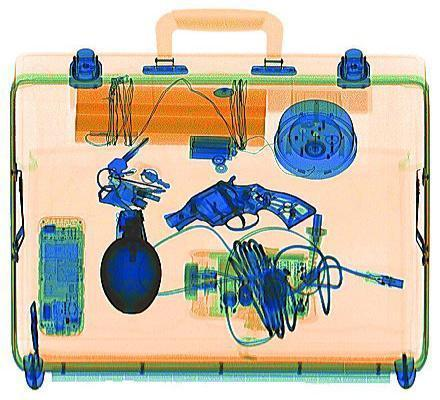Gun: (162, 174, 318, 231)
